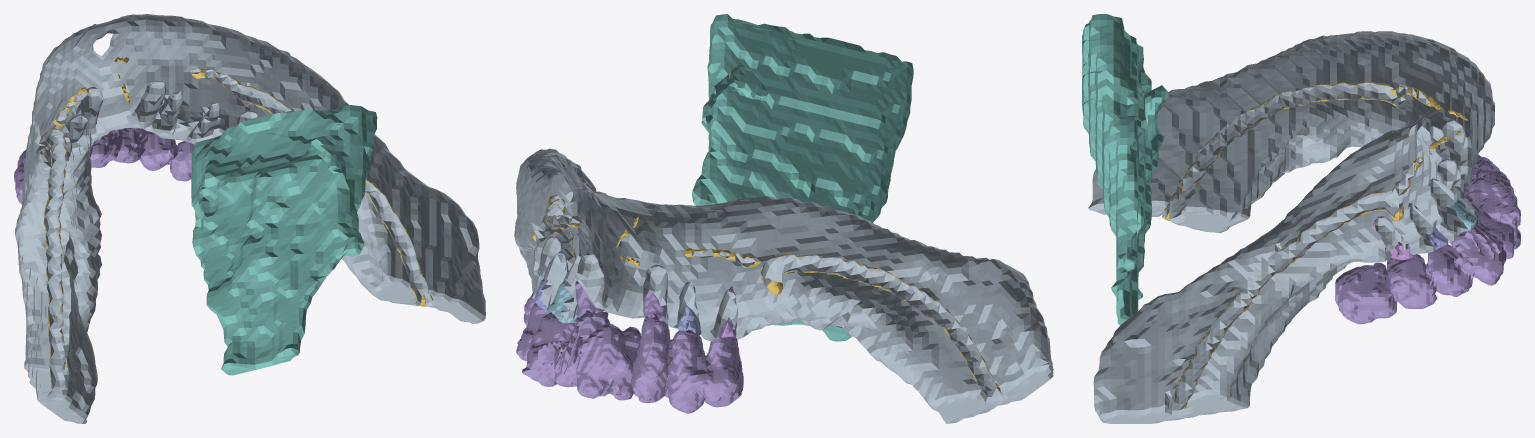
The model's file is ToothFairy3P_003.glb.
The picture shows the model from 3 angles, left to right: view 1: azimuth 30°, elevation 25°; view 2: azimuth 150°, elevation 25°; view 3: azimuth 270°, elevation 25°; orthographic projection. The views are drawn at different scales.
Parts seen in each view (by area): view 1: jaws__1, other__7, restorations__9, restorations__8, canals__4; view 2: jaws__1, other__7, restorations__9, restorations__8, restorations__10, canals__4, teeth__33; view 3: jaws__1, other__7, restorations__9, restorations__8, canals__3, canals__4, teeth__33.
Boxes of the visible parts, x1=… form: jaws__1: x1=15, y1=14, x2=485, y2=423; other__7: x1=191, y1=105, x2=377, y2=375; restorations__9: x1=14, y1=128, x2=194, y2=204; restorations__8: x1=90, y1=129, x2=122, y2=167; canals__4: x1=39, y1=127, x2=67, y2=391; jaws__1: x1=514, y1=148, x2=1053, y2=423; other__7: x1=692, y1=14, x2=913, y2=341; restorations__9: x1=516, y1=291, x2=743, y2=413; restorations__8: x1=576, y1=323, x2=641, y2=400; restorations__10: x1=575, y1=253, x2=668, y2=321; canals__4: x1=761, y1=254, x2=1001, y2=393; teeth__33: x1=546, y1=255, x2=581, y2=323; jaws__1: x1=1088, y1=31, x2=1494, y2=423; other__7: x1=1082, y1=14, x2=1168, y2=325; restorations__9: x1=1387, y1=154, x2=1517, y2=308; restorations__8: x1=1335, y1=177, x2=1520, y2=324; canals__3: x1=1174, y1=191, x2=1403, y2=408; canals__4: x1=1162, y1=81, x2=1396, y2=220; teeth__33: x1=1428, y1=178, x2=1477, y2=233.
Bounding box in the file's own units: 91.39 × 50.1 × 76.6.
